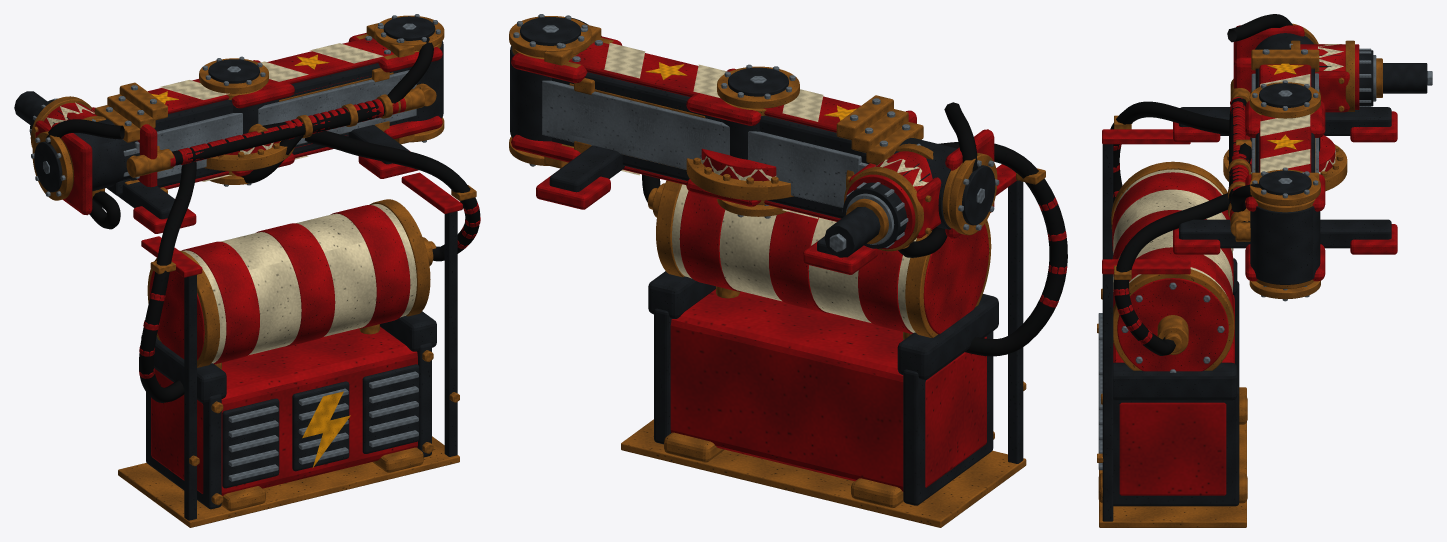
File: RepairArm.glb
The picture shows the model from 3 angles, left to right: view 1: azimuth 30°, elevation 25°; view 2: azimuth 150°, elevation 25°; view 3: azimuth 270°, elevation 25°; orthographic projection. The views are drawn at different scales.
Parts seen in each view (by area): view 1: Services_Repair crimson enamel, Services_Repair dark steel, Services_Repair aged brass, Services_Repair warm ivory, Services_Repair hose rubber, Elbow_Repair worn edges, Elbow_Repair dark steel, Services_Repair worn edges, Elbow_Repair crimson enamel, Wrist_Repair crimson enamel, Wrist_Repair dark steel, Elbow_Repair aged brass (+18 smaller); view 2: Services_Repair crimson enamel, Services_Repair dark steel, Services_Repair aged brass, Elbow_Repair worn edges, Elbow_Repair dark steel, Services_Repair warm ivory, Elbow_Repair crimson enamel, Services_Repair hose rubber, Wrist_Repair crimson enamel, Mount_Repair crimson enamel, Wrist_Repair dark steel, Elbow_Repair aged brass (+14 smaller); view 3: Services_Repair crimson enamel, Services_Repair dark steel, Services_Repair aged brass, Elbow_Repair dark steel, Services_Repair hose rubber, Mount_Repair dark steel, Elbow_Repair aged brass, Mount_Repair crimson enamel, Wrist_Repair crimson enamel, Services_Repair warm ivory, Elbow_Repair crimson enamel, Shoulder_Repair aged brass (+13 smaller).
Boxes of the visible parts, x1=… form: Services_Repair crimson enamel: x1=139, y1=172, x2=480, y2=495; Services_Repair dark steel: x1=141, y1=211, x2=457, y2=520; Services_Repair aged brass: x1=118, y1=185, x2=476, y2=527; Services_Repair warm ivory: x1=183, y1=204, x2=416, y2=363; Services_Repair hose rubber: x1=139, y1=130, x2=480, y2=402; Elbow_Repair worn edges: x1=131, y1=14, x2=440, y2=178; Elbow_Repair dark steel: x1=154, y1=16, x2=443, y2=187; Services_Repair worn edges: x1=228, y1=371, x2=418, y2=481; Elbow_Repair crimson enamel: x1=148, y1=33, x2=442, y2=189; Wrist_Repair crimson enamel: x1=35, y1=102, x2=157, y2=215; Wrist_Repair dark steel: x1=30, y1=98, x2=139, y2=192; Elbow_Repair aged brass: x1=119, y1=15, x2=444, y2=193; Services_Repair crimson enamel: x1=670, y1=164, x2=1067, y2=491; Services_Repair dark steel: x1=648, y1=180, x2=1023, y2=505; Services_Repair aged brass: x1=621, y1=168, x2=1045, y2=527; Elbow_Repair worn edges: x1=513, y1=14, x2=880, y2=207; Elbow_Repair dark steel: x1=510, y1=17, x2=864, y2=218; Services_Repair warm ivory: x1=672, y1=184, x2=916, y2=332; Elbow_Repair crimson enamel: x1=511, y1=36, x2=860, y2=221; Services_Repair hose rubber: x1=642, y1=142, x2=1067, y2=356; Wrist_Repair crimson enamel: x1=845, y1=110, x2=994, y2=249; Mount_Repair crimson enamel: x1=536, y1=148, x2=877, y2=274; Wrist_Repair dark steel: x1=843, y1=138, x2=995, y2=248; Elbow_Repair aged brass: x1=509, y1=16, x2=893, y2=168; Services_Repair crimson enamel: x1=1102, y1=129, x2=1234, y2=495; Services_Repair dark steel: x1=1102, y1=144, x2=1239, y2=521; Services_Repair aged brass: x1=1097, y1=115, x2=1247, y2=527; Elbow_Repair dark steel: x1=1250, y1=68, x2=1320, y2=284; Services_Repair hose rubber: x1=1110, y1=101, x2=1246, y2=355; Mount_Repair dark steel: x1=1179, y1=107, x2=1391, y2=248; Elbow_Repair aged brass: x1=1230, y1=49, x2=1320, y2=299; Mount_Repair crimson enamel: x1=1173, y1=111, x2=1397, y2=254; Wrist_Repair crimson enamel: x1=1233, y1=25, x2=1359, y2=112; Services_Repair warm ivory: x1=1113, y1=169, x2=1232, y2=294; Elbow_Repair crimson enamel: x1=1230, y1=64, x2=1325, y2=281; Shoulder_Repair aged brass: x1=1228, y1=82, x2=1320, y2=241.
Size of the model in its own units: 1.57 by 1.37 by 1.14.
Materials: 7 (7 with a texture image).
